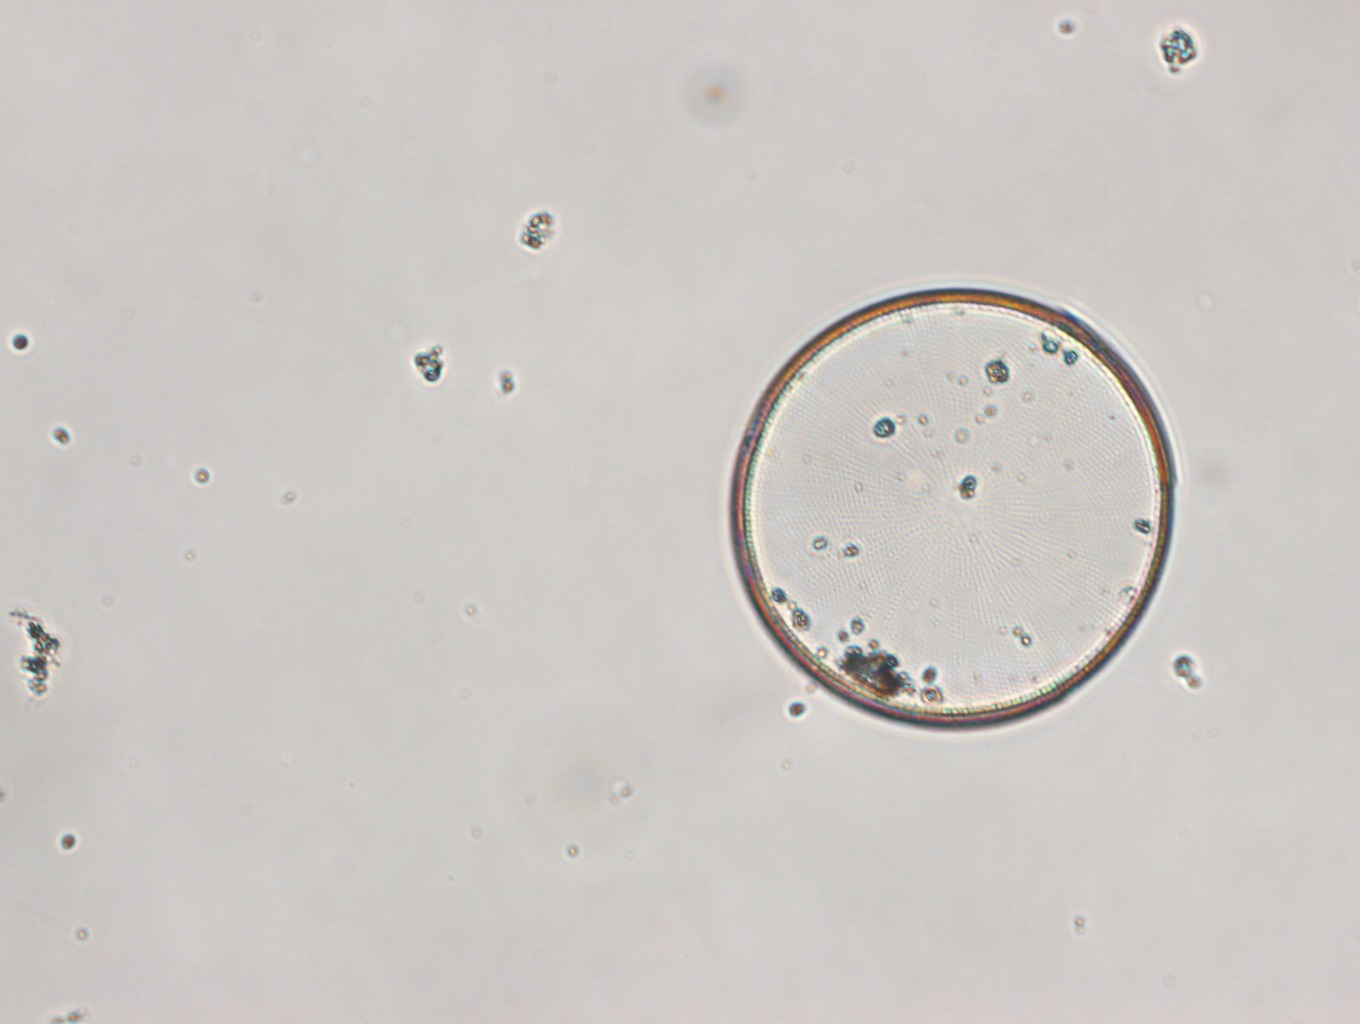coscinodiscus: (727, 285, 1177, 733)
